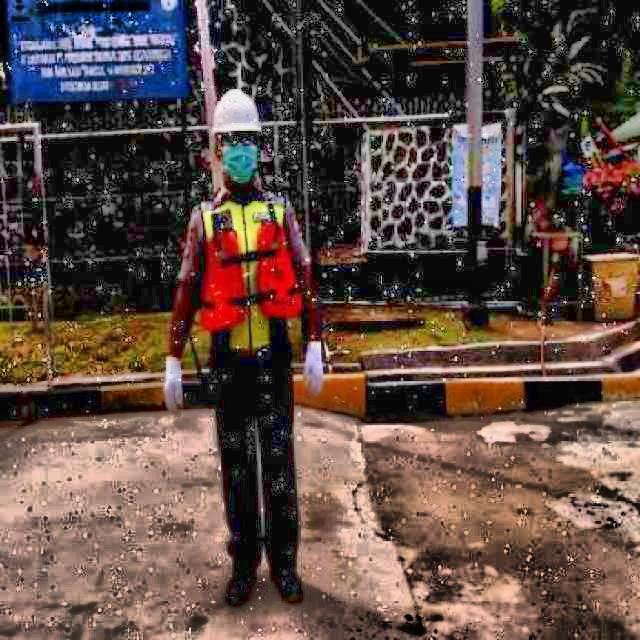safety_helmet: (208, 90, 259, 136)
safety_jacket: (172, 190, 314, 380)
